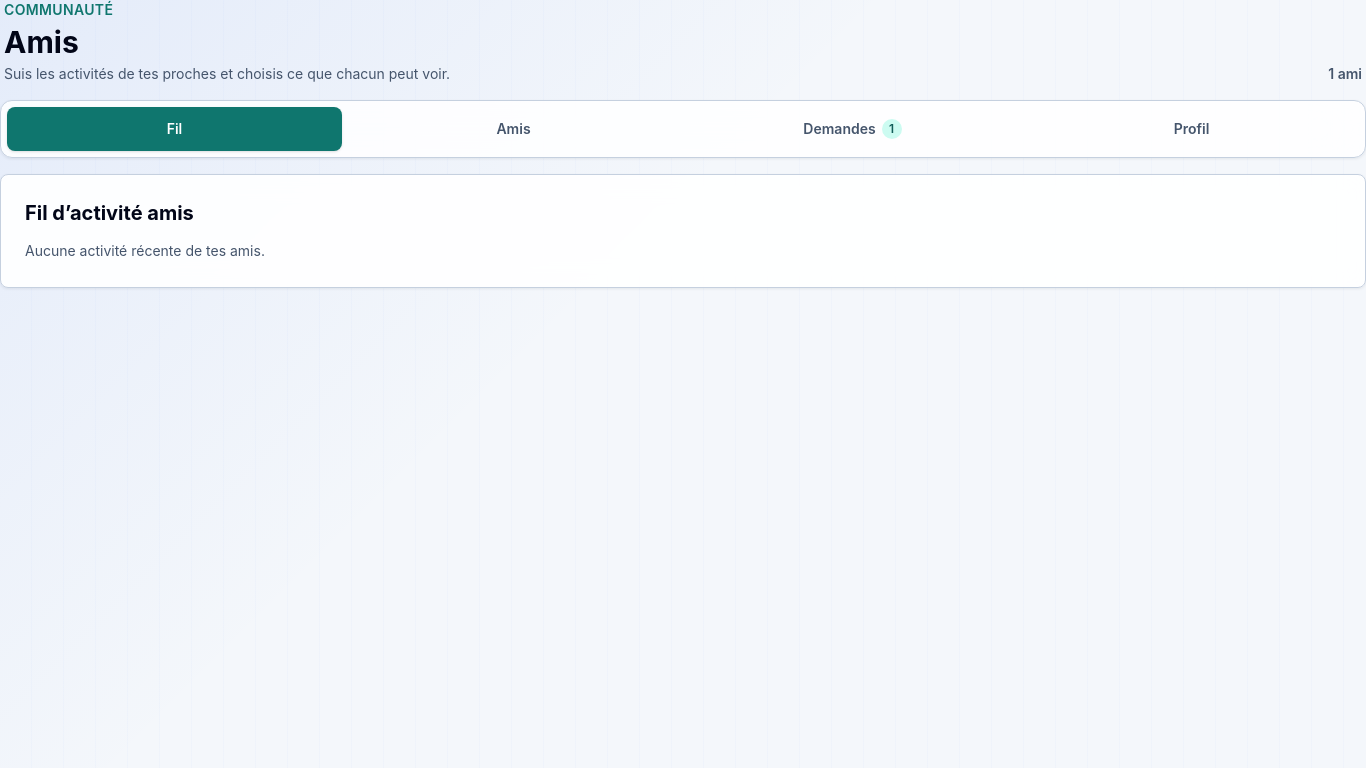
Scenario: FriendsPrivacyPage › retourne un état cloud indisponible sans backend social
This screenshot has width=1366, height=768.
Click the button with aria-label "Mon profil social".
click(1192, 129)  # box [1024,107,1359,151]
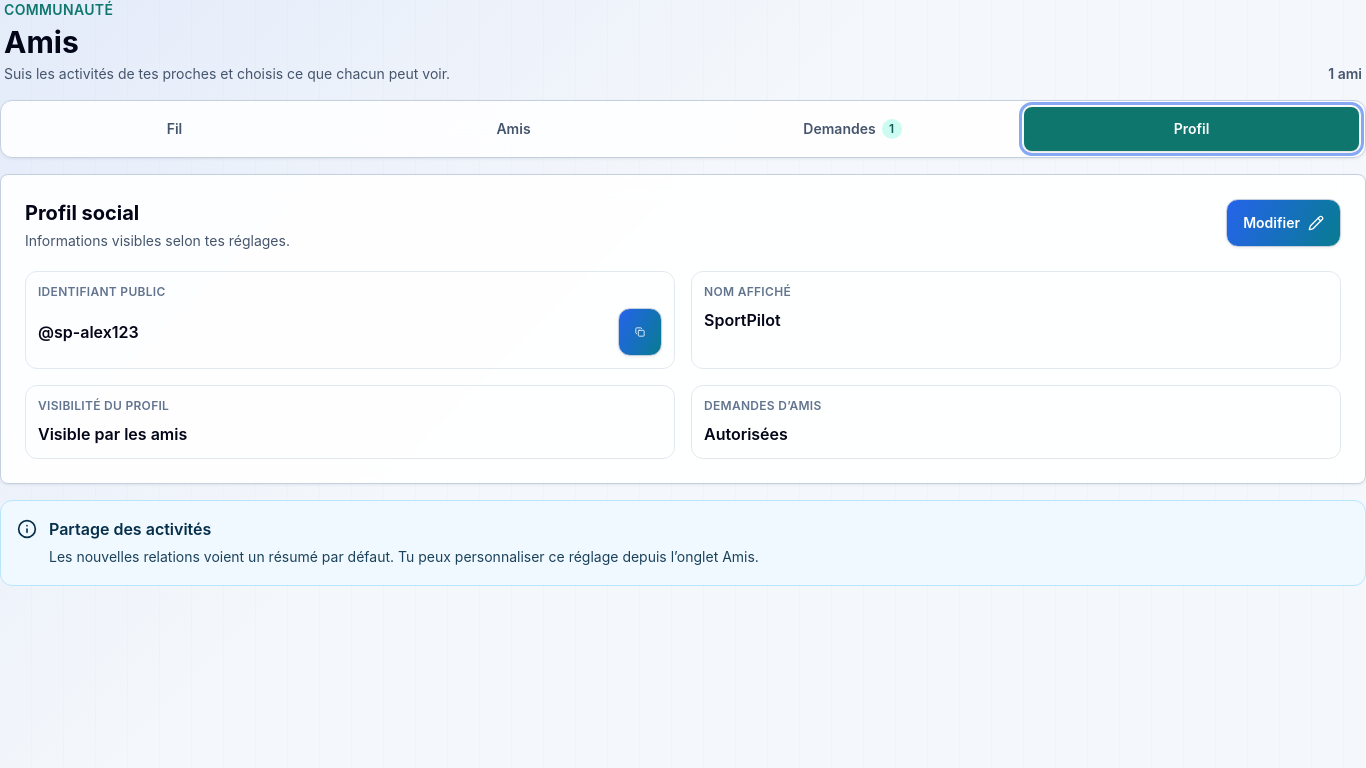
Click the button with aria-label "Modifier le profil public".
click(1284, 223)  # box [1226,199,1341,247]
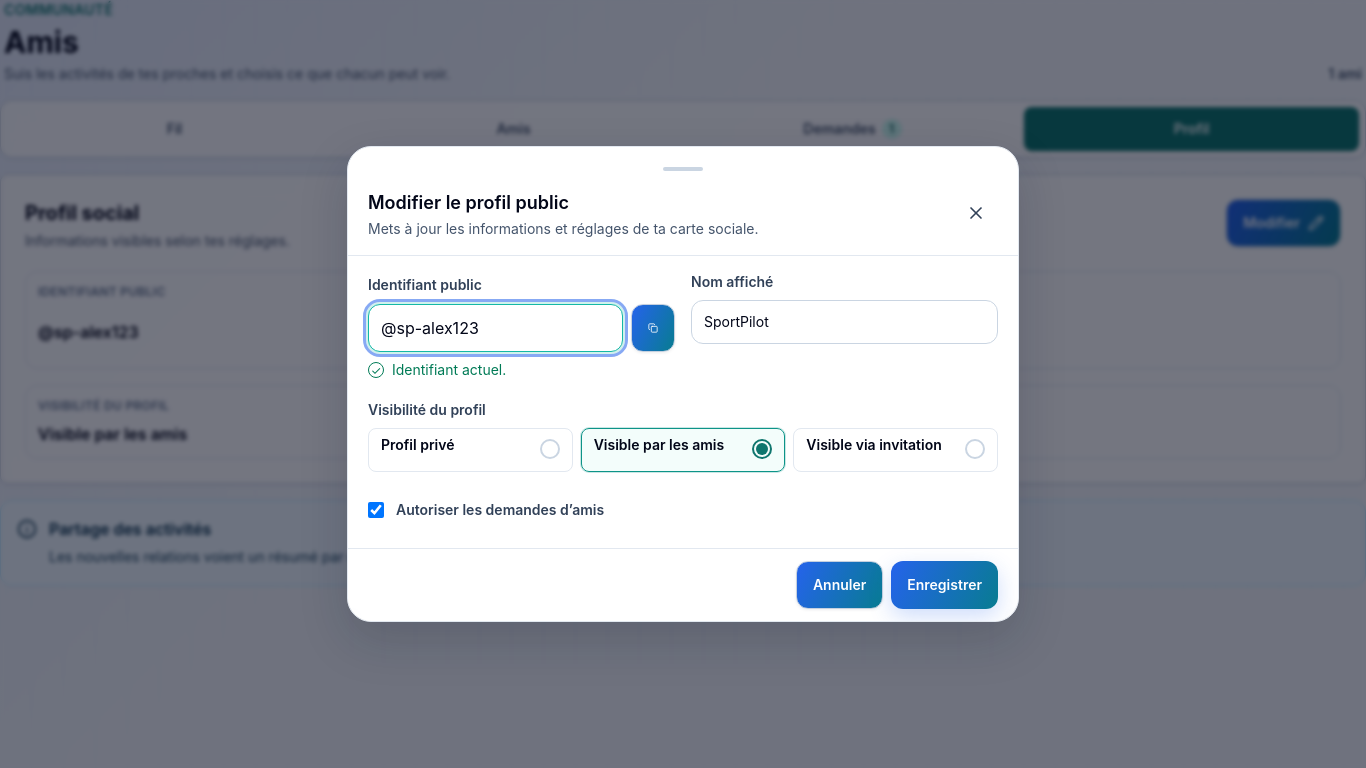
Clear the field labelled "Identifiant public" at {"x": 496, "y": 328}, box [368,304,623,352]
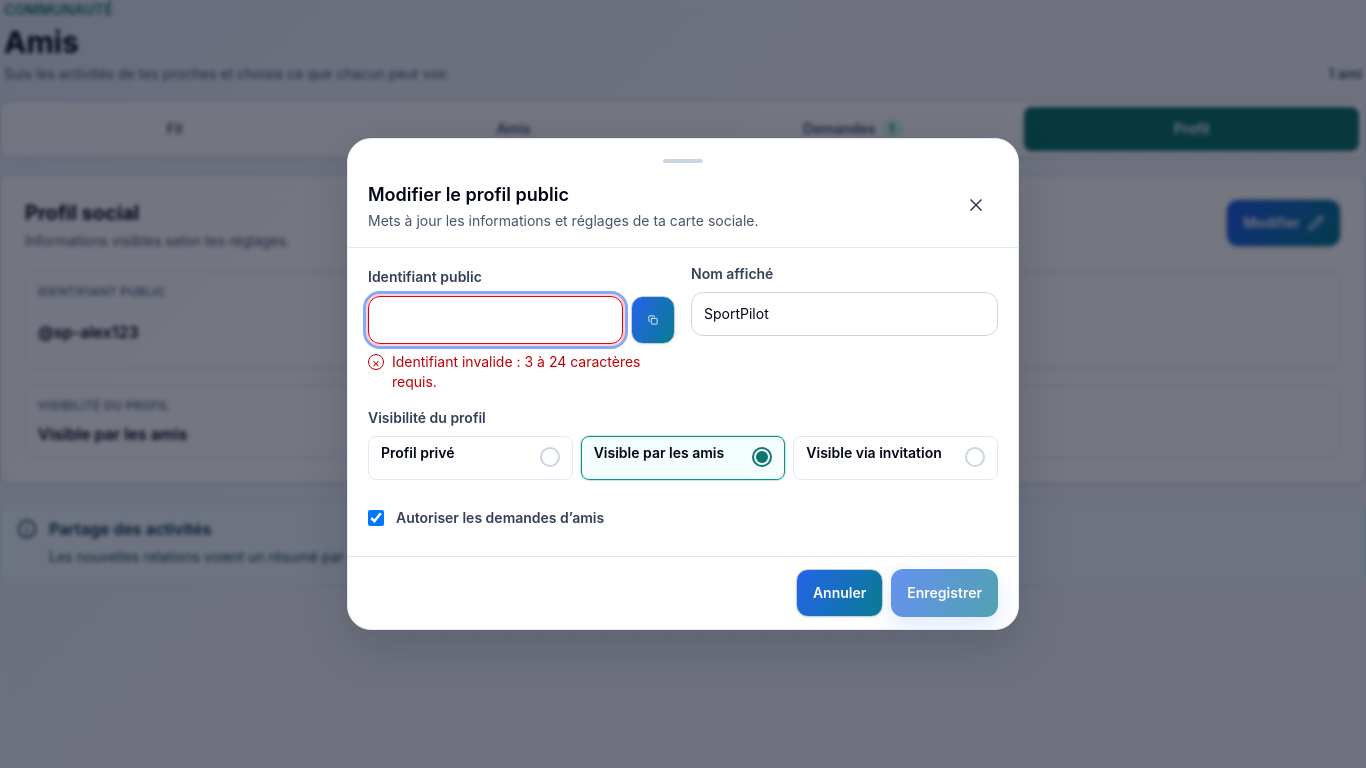
Type "@nouveau.handle" into the field labelled "Identifiant public".
click(496, 320); type("@nouveau.handle")  # box [368,296,623,344]
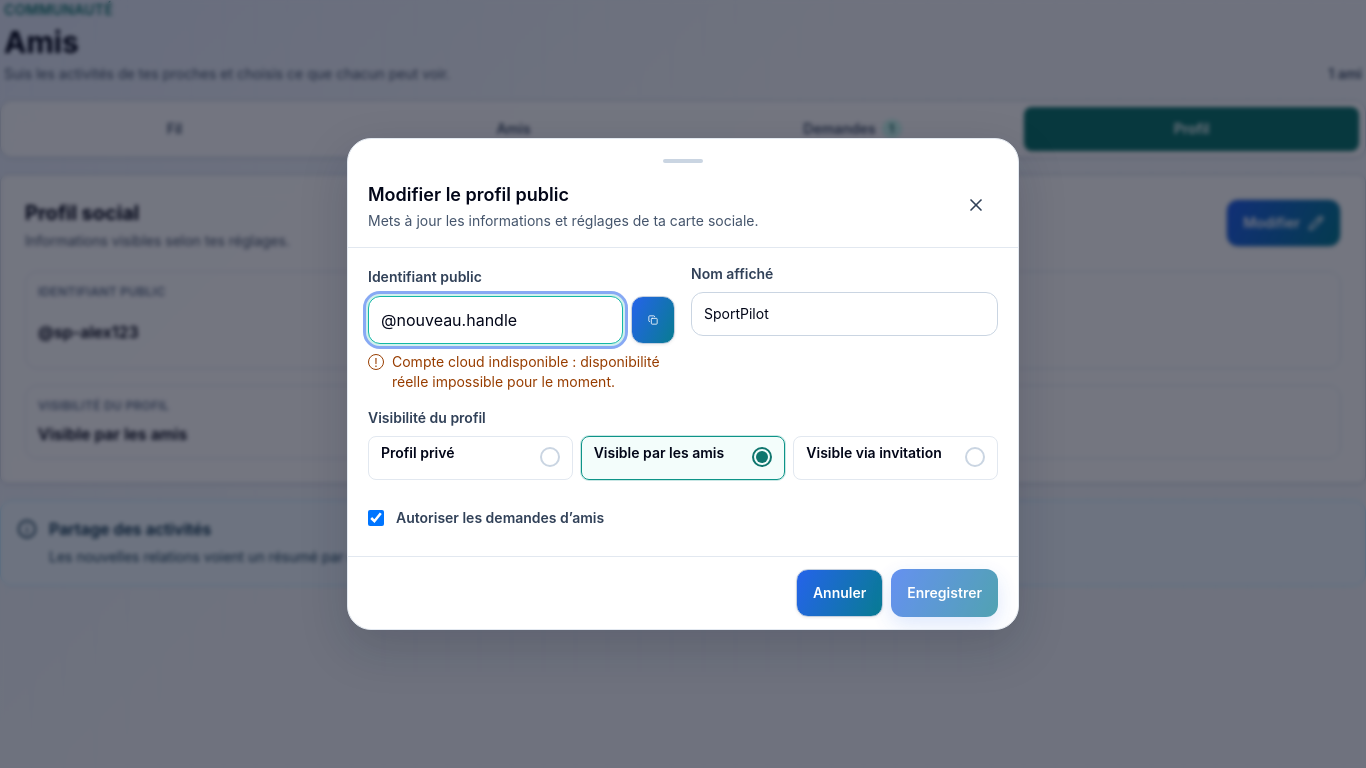
Expected: the button "Enregistrer" is disabled, [891,569,998,617]
Expected: the text "Compte cloud indisponible" is shown, [392,353,660,390]
